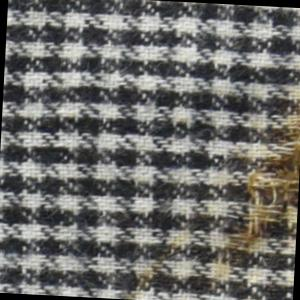Damage: (213, 101, 300, 277)
Oil Stain: (122, 70, 300, 300)
